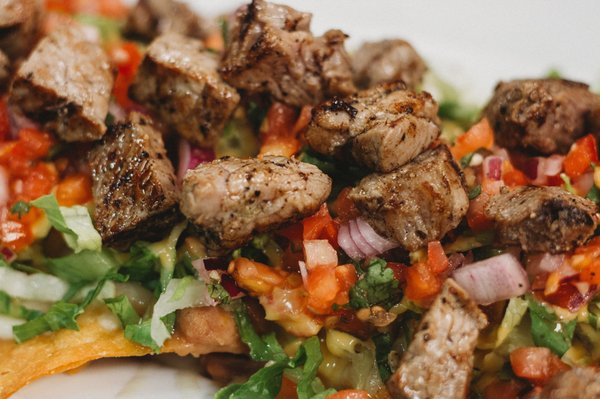curry: (347, 257, 404, 311)
